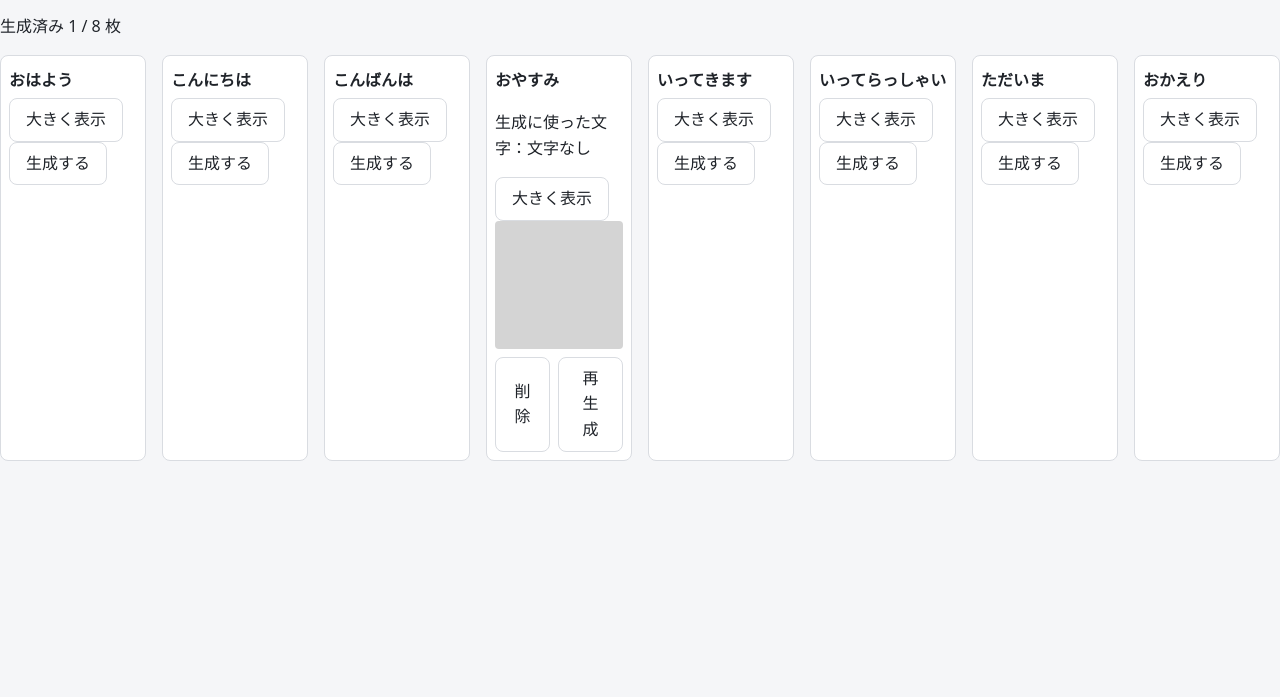
Test: レビュー時の再生成条件 › 再生成ボタンではフォームを開くだけで、キャンセルは条件を変更しない
The width and height of the screenshot is (1280, 697).
Click the button with aria-label "画像 4 を再生成": (590,404) [558,357,623,452]
(page scrolled)
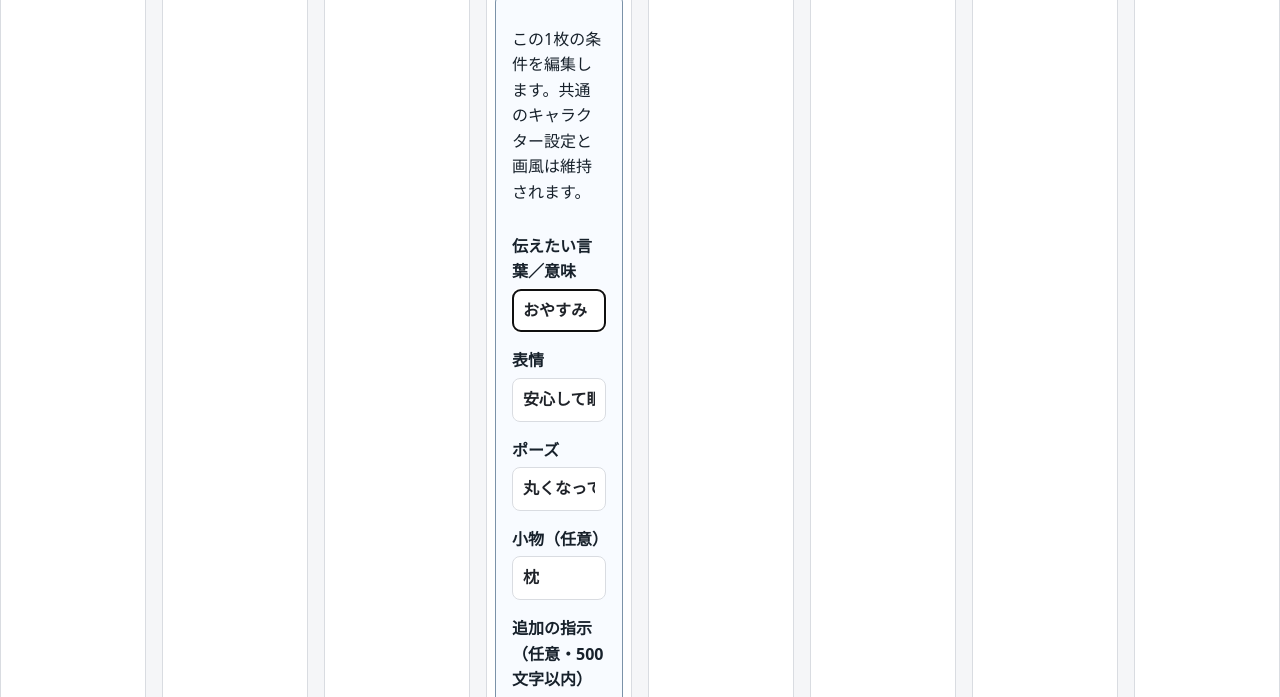
Check: the field labelled "ポーズ" holds "丸くなって枕に頭をのせる"
Replace the text in the field labelled "ポーズ" with "仰向けで眠る": (559,489) [512,467,606,511]
(page scrolled)
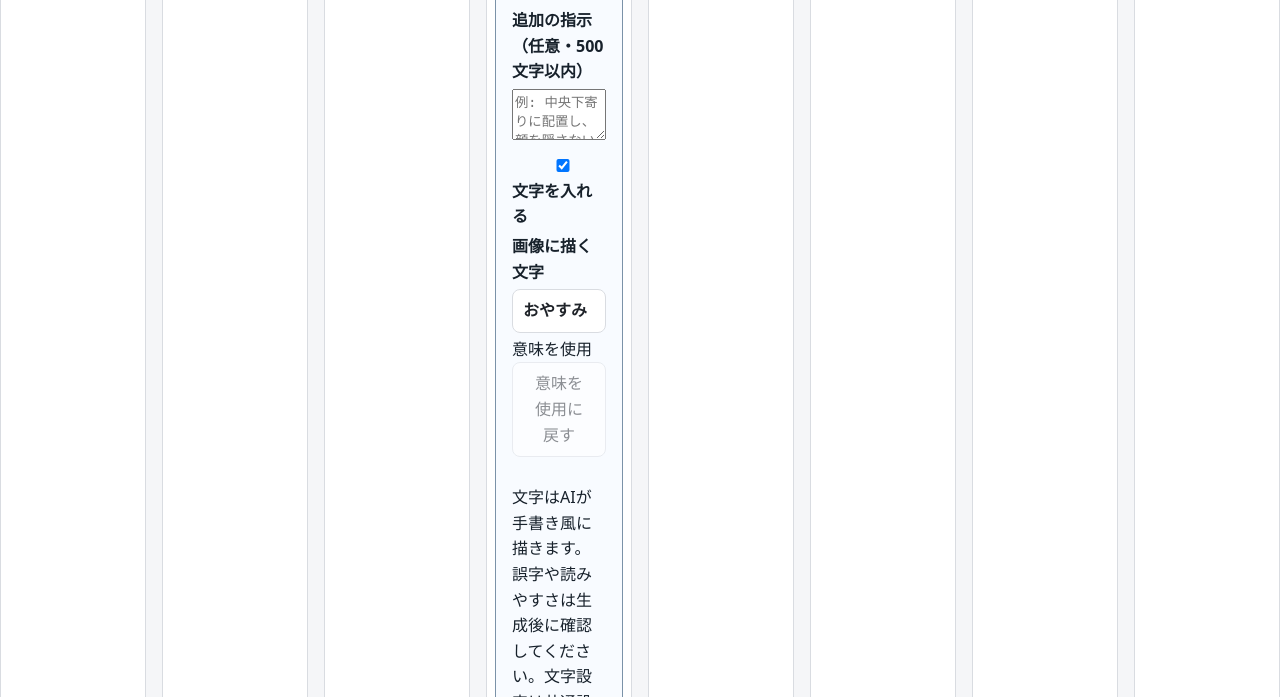
Replace the text in the field labelled "画像に描く文字" with "変更する文字": (559,311) [512,289,606,333]
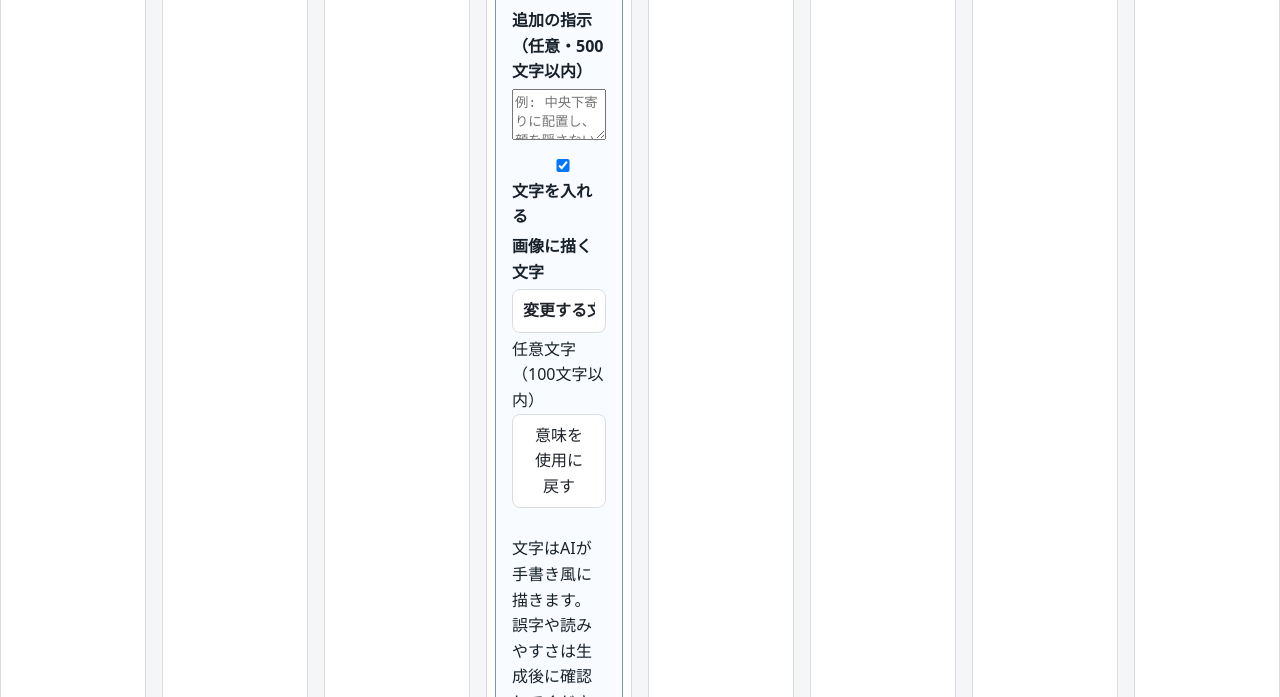
Click the checkbox labelled "文字を入れる": (563,165) [516,159,610,172]
(page scrolled)
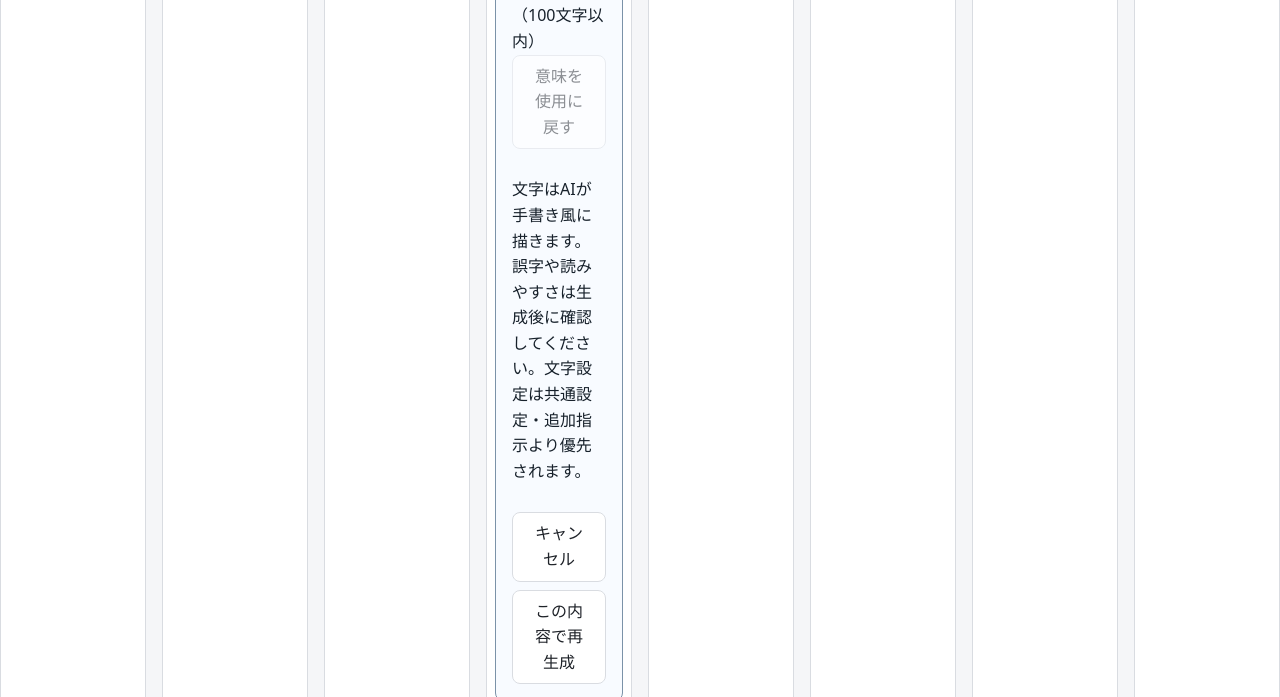
Click the button "キャンセル": (559,547) [512,512,606,582]
(page scrolled)
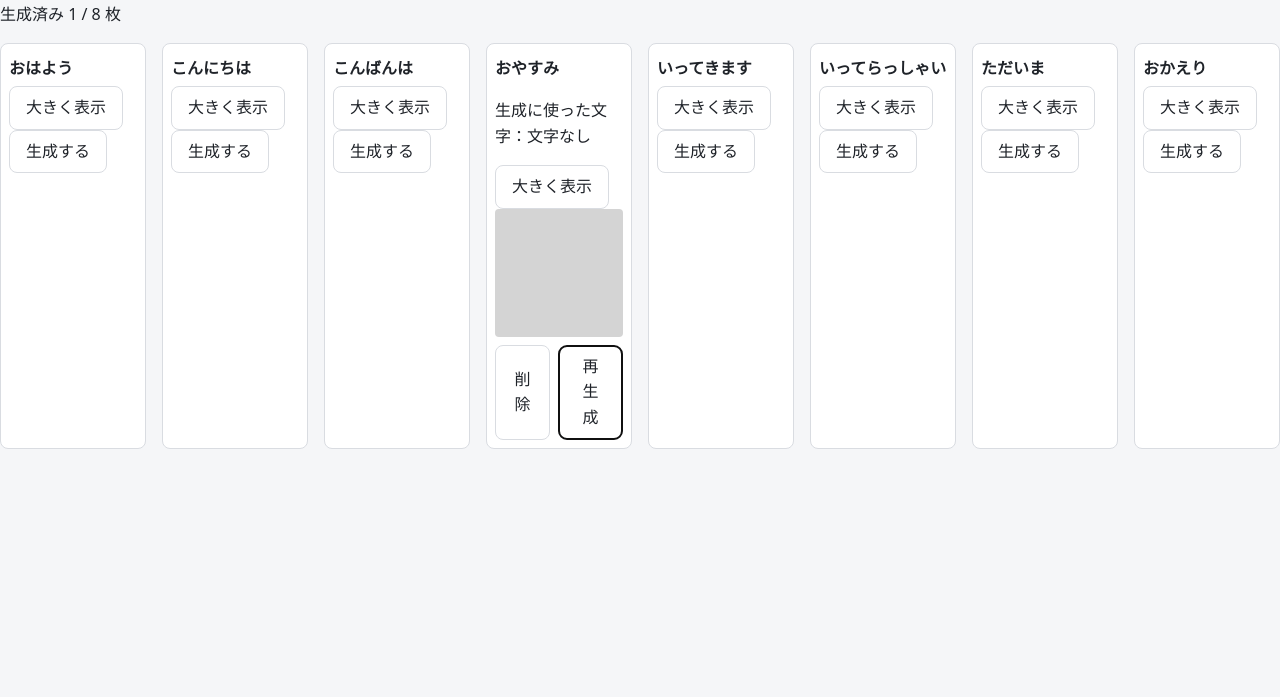
Click the button with aria-label "画像 4 を再生成": (590,392) [558,345,623,440]
(page scrolled)
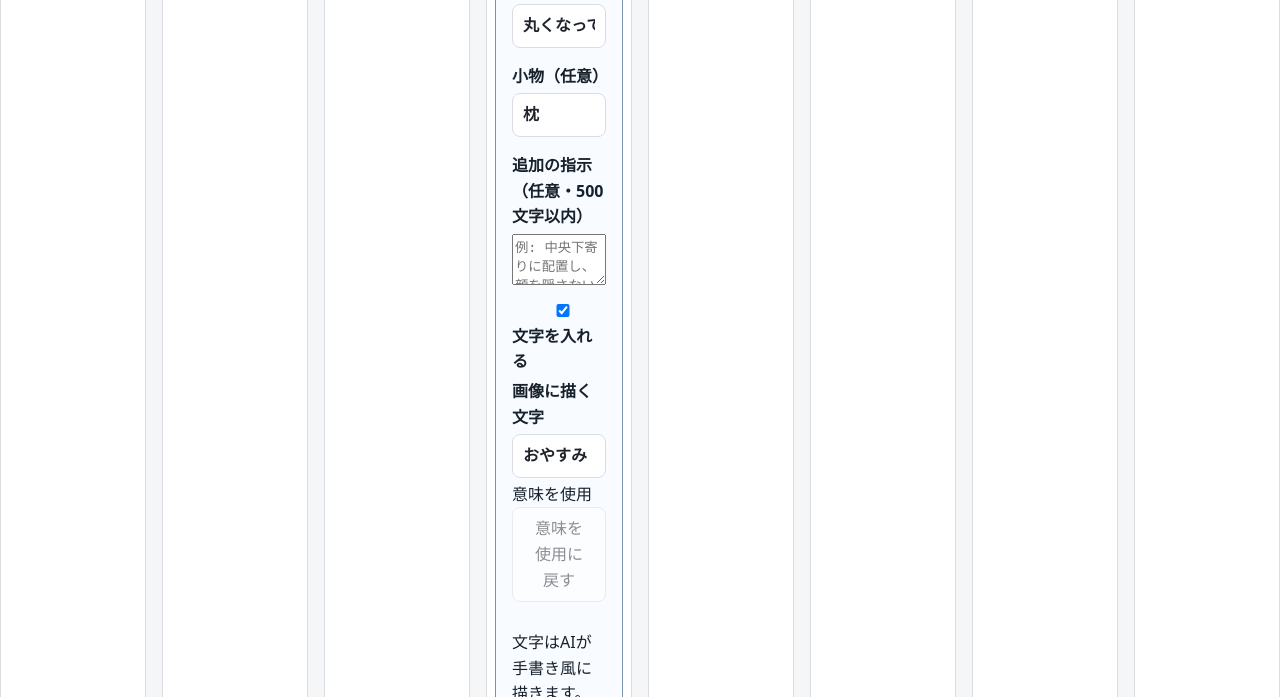
Check: the field labelled "ポーズ" holds "丸くなって枕に頭をのせる", box [512,4,606,48]
Check: the field labelled "画像に描く文字" holds "おやすみ", box [512,434,606,478]
Check: the checkbox labelled "文字を入れる" is checked, box [516,304,610,317]
